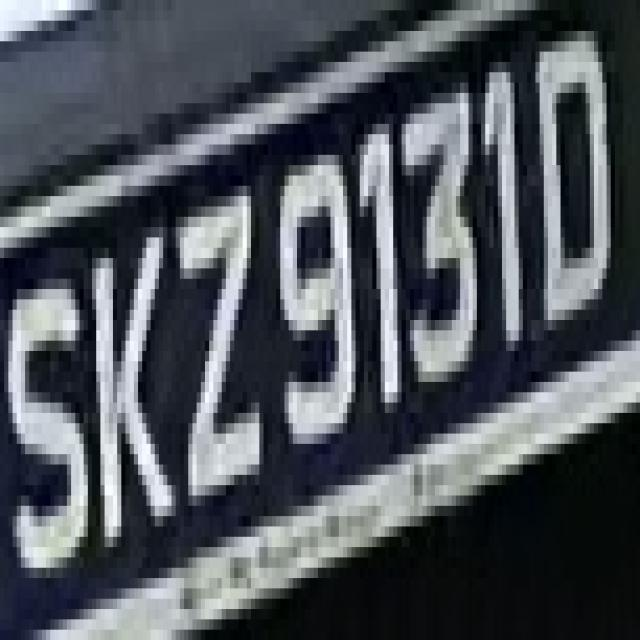1: (468, 62, 540, 403), (360, 82, 414, 464)
3: (406, 83, 481, 423)
9: (276, 134, 364, 485)
D: (535, 21, 615, 351)
K: (92, 217, 176, 557)
S: (0, 258, 92, 588)
Z: (180, 144, 259, 526)
